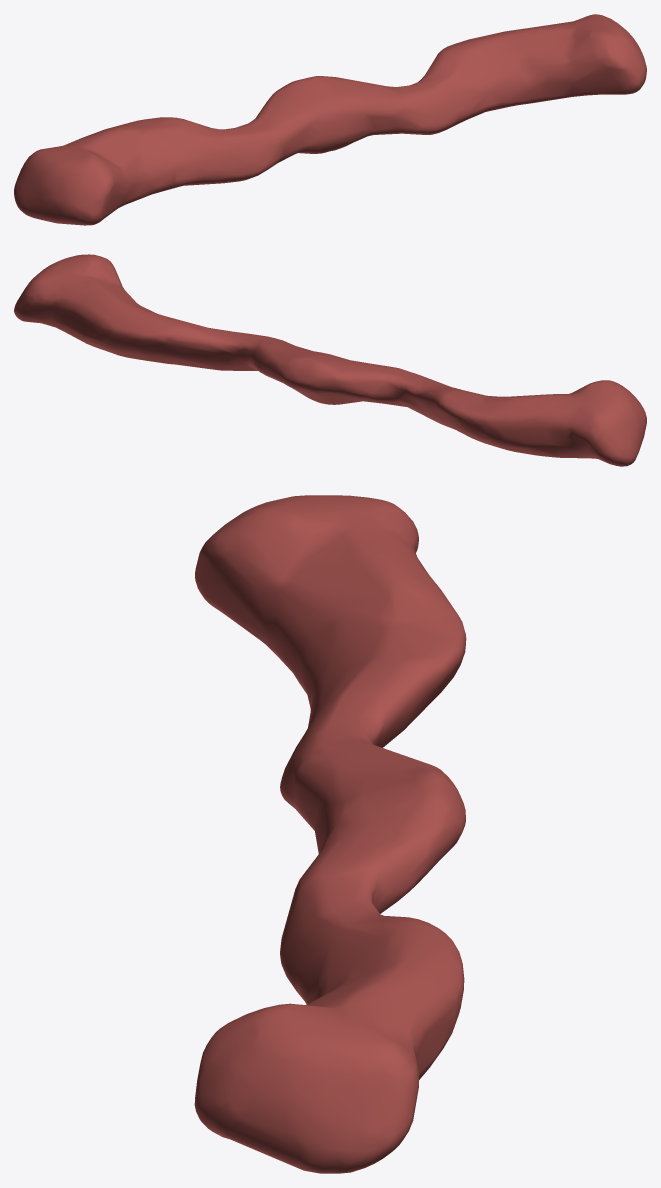
Rendered from FMA61961.glb.
3 views of the same model, one above another, from view 1: azimuth 30°, elevation 25°; view 2: azimuth 150°, elevation 25°; view 3: azimuth 270°, elevation 25° (orthographic). The views are drawn at different scales.
Parts seen in each view (by area): view 1: FMA61961; view 2: FMA61961; view 3: FMA61961.
Boxes of the visible parts, x1,y1,x2,y2 form: FMA61961: (14, 14, 646, 225); FMA61961: (14, 254, 646, 466); FMA61961: (194, 495, 466, 1173).
Bounding box in the file's own units: 0.0232 × 0.0025 × 0.00443.
